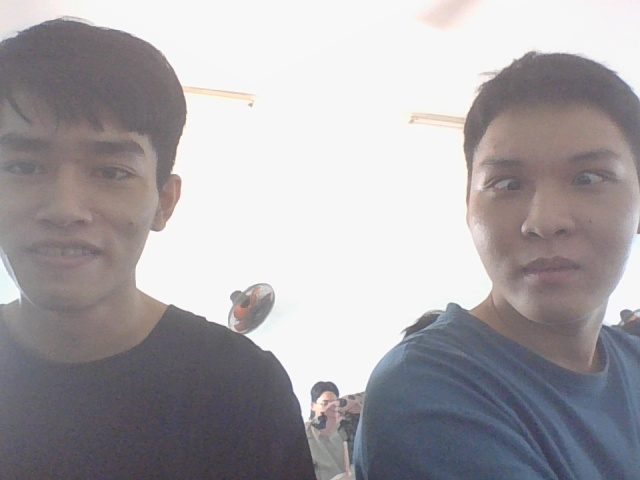real: (0, 4, 236, 338), (445, 24, 640, 348)
